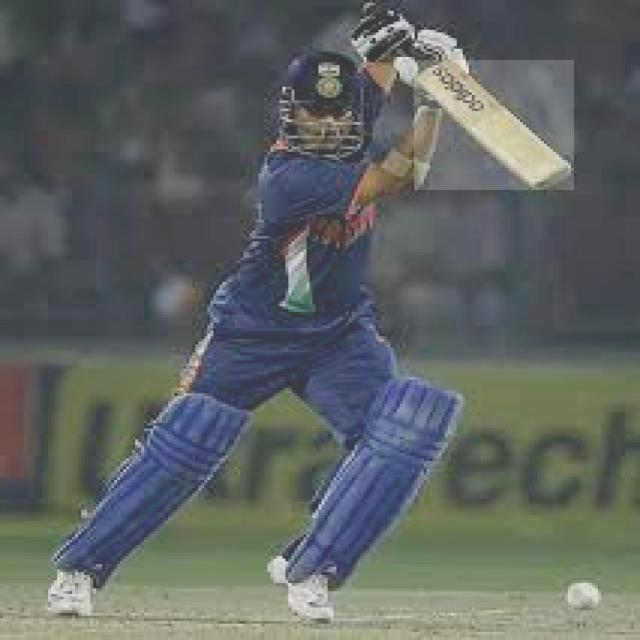bat: (415, 61, 576, 191)
toe: (540, 170, 571, 187)
